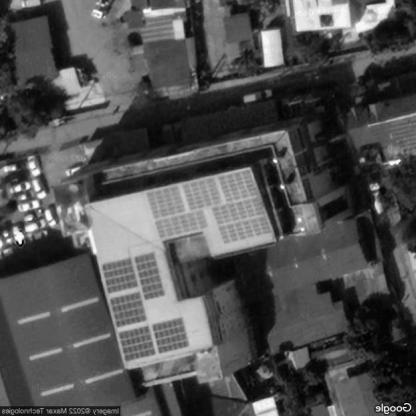solar-pv-panel: (211, 195, 266, 226), (218, 215, 273, 244), (156, 209, 208, 239), (136, 252, 165, 300), (218, 167, 258, 201), (119, 326, 156, 361), (110, 292, 147, 327), (146, 186, 185, 219), (153, 317, 189, 352), (182, 177, 221, 208), (103, 258, 137, 293)
